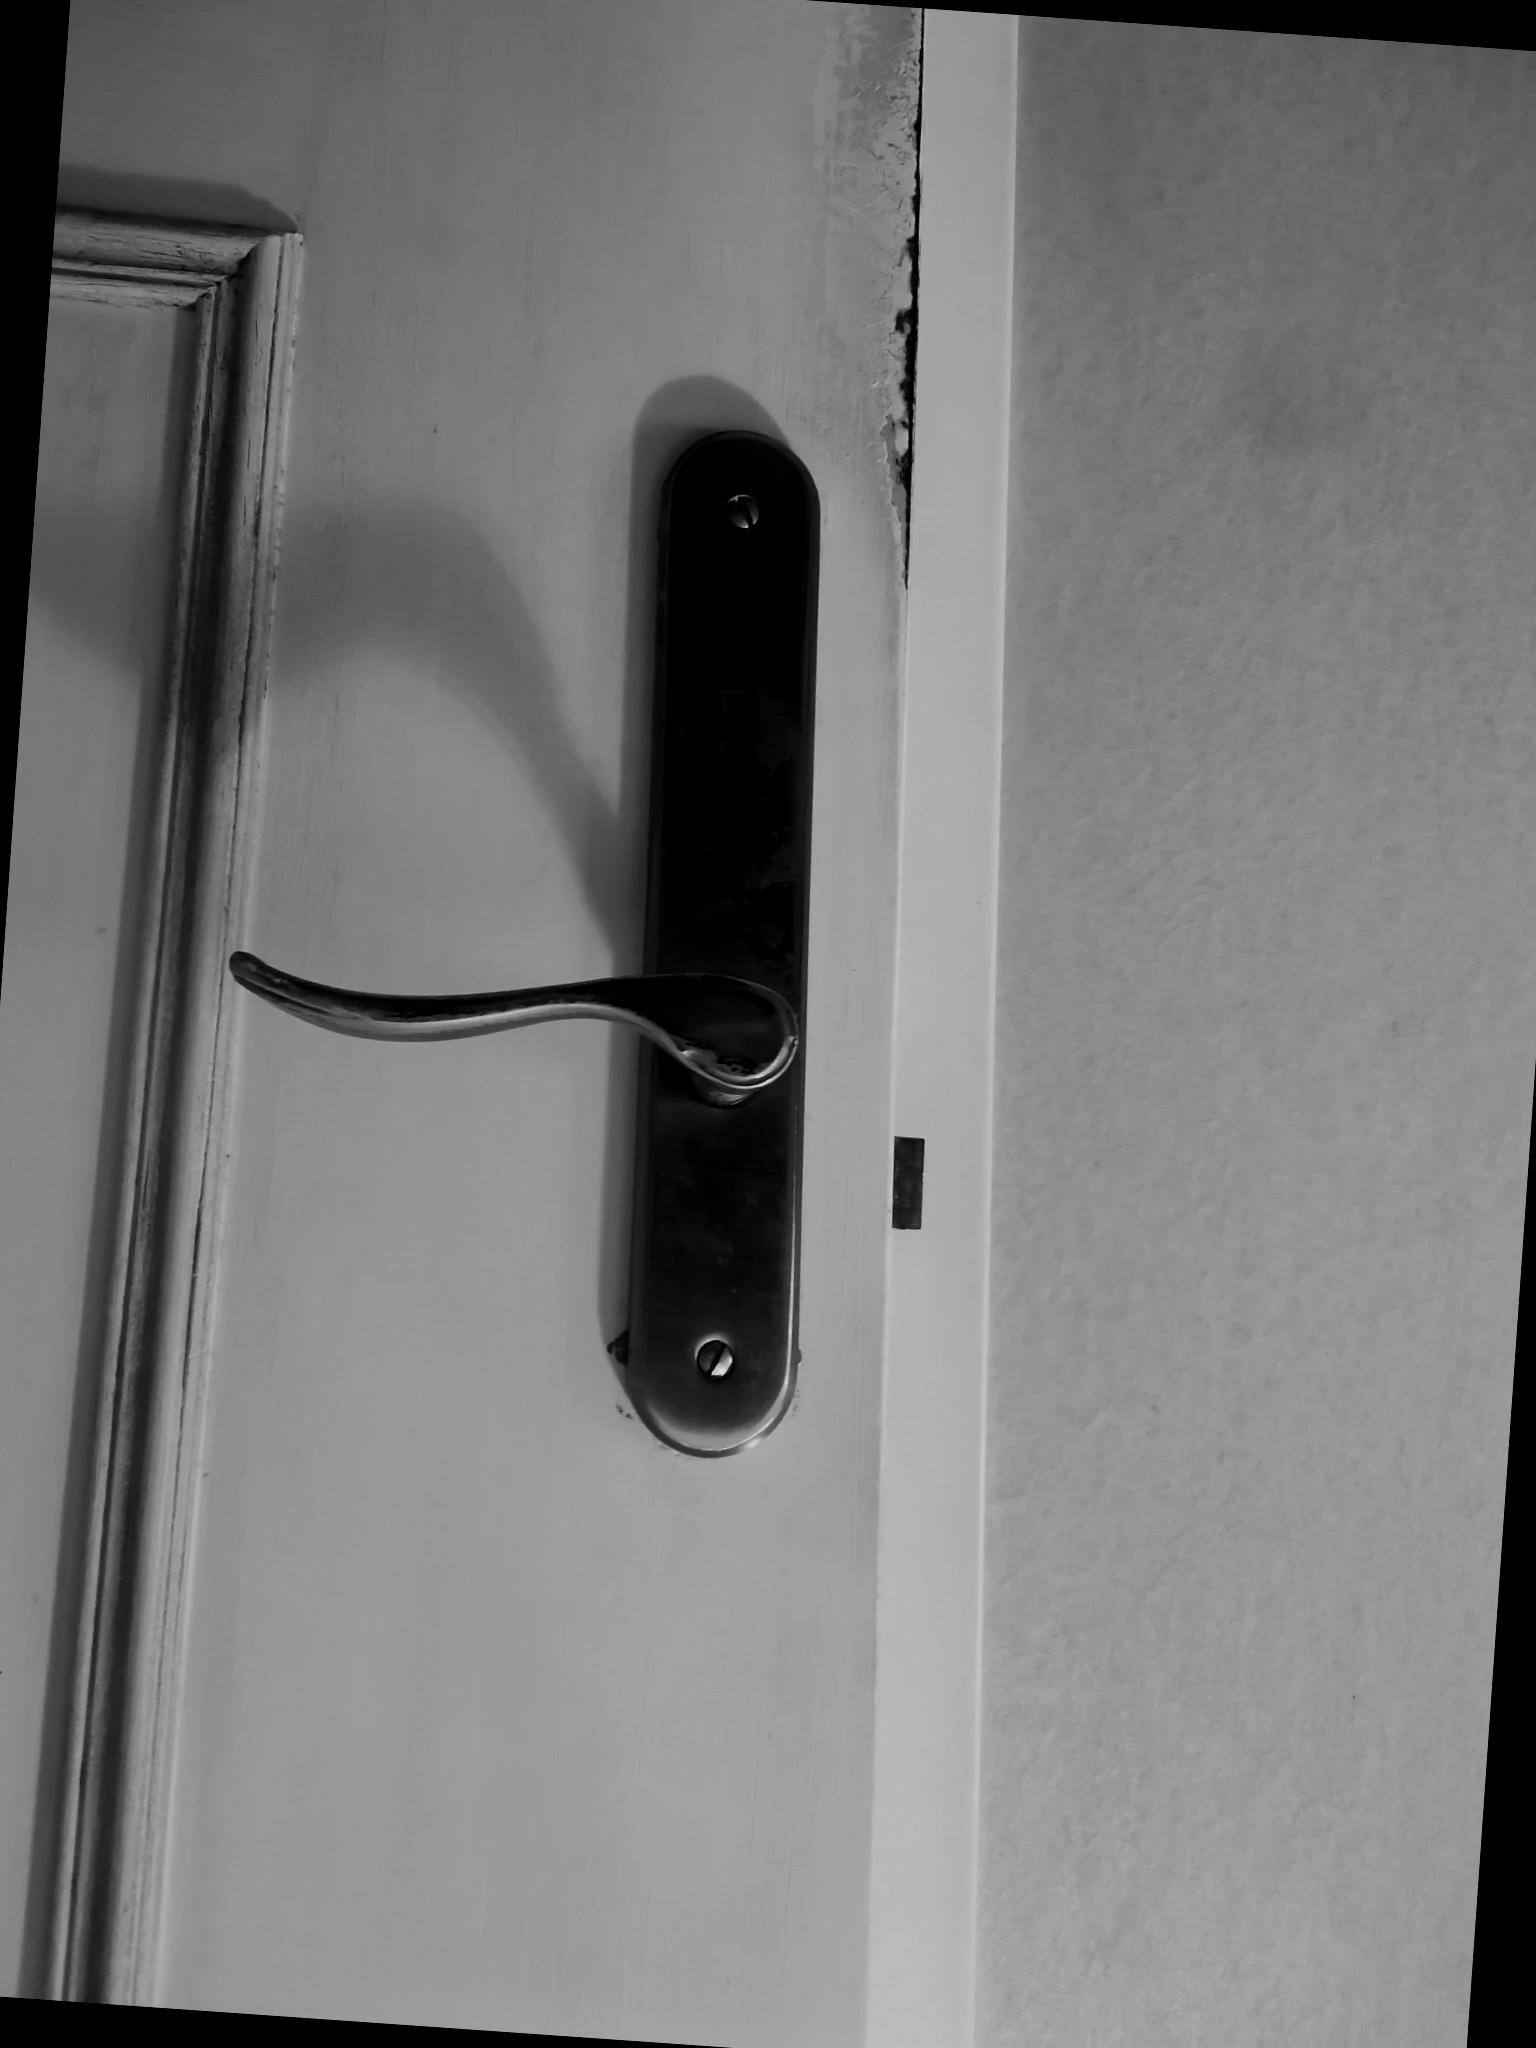screw: (691, 1335, 739, 1382), (721, 490, 765, 534)
